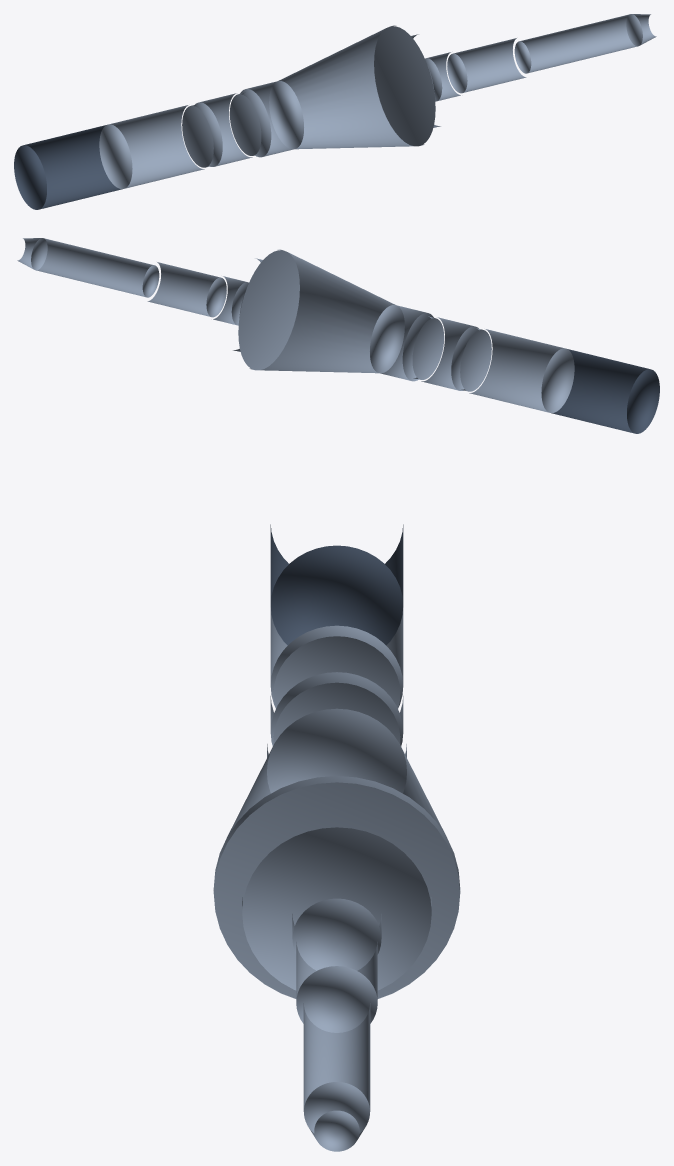
File: cylinder-pointed-bur-12s-mcxl.glb
The picture shows the model from 3 angles, top to bottom: view 1: azimuth 30°, elevation 25°; view 2: azimuth 150°, elevation 25°; view 3: azimuth 270°, elevation 25°; orthographic projection. The views are drawn at different scales.
Bounding box in the file's own units: 38 × 6.5 × 6.5.
